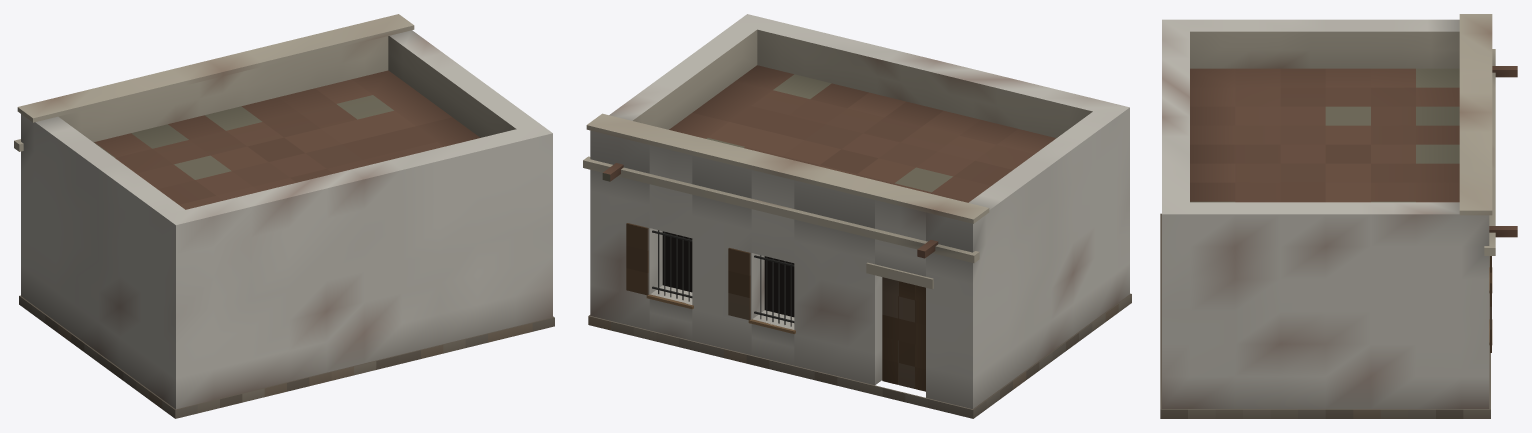
The model's file is casa_ba_b.glb.
The picture shows the model from 3 angles, left to right: view 1: azimuth 30°, elevation 25°; view 2: azimuth 150°, elevation 25°; view 3: azimuth 270°, elevation 25°; orthographic projection. The views are drawn at different scales.
Visible parts, largest first — view 1: casa_ba_b; view 2: casa_ba_b; view 3: casa_ba_b.
Part boxes in pixels (left/top/right/bottom): casa_ba_b: left=14, top=14, right=554, bottom=418; casa_ba_b: left=583, top=14, right=1131, bottom=418; casa_ba_b: left=1160, top=14, right=1517, bottom=418.
Size of the model in its own units: 9.2 by 4.5 by 6.98.
